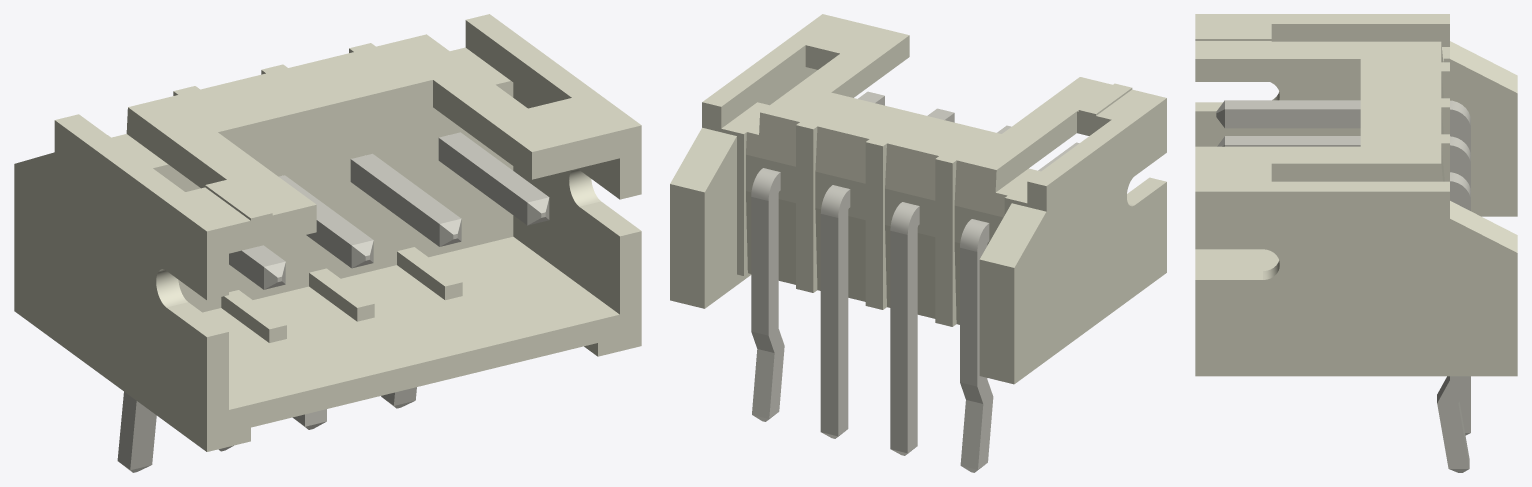
The model's file is kc-jst_ph_s4b-ph-k_1x04_p2.00mm_horizontal.glb.
3 renders of one model, left to right at view 1: azimuth 30°, elevation 25°; view 2: azimuth 150°, elevation 25°; view 3: azimuth 270°, elevation 25°, orthographic. The views are drawn at different scales.
Visible parts, largest first — view 1: 0.75_0.75_0.5833333333333334_0, 0.6666666666666666_0.6666666666666666_0.5833333333333334_0.8; view 2: 0.75_0.75_0.5833333333333334_0, 0.6666666666666666_0.6666666666666666_0.5833333333333334_0.8; view 3: 0.75_0.75_0.5833333333333334_0, 0.6666666666666666_0.6666666666666666_0.5833333333333334_0.8.
Part boxes in pixels (box(x1,y1,x2,y2)): 0.75_0.75_0.5833333333333334_0: box(14, 14, 641, 451); 0.6666666666666666_0.6666666666666666_0.5833333333333334_0.8: box(117, 132, 549, 472); 0.75_0.75_0.5833333333333334_0: box(670, 14, 1166, 384); 0.6666666666666666_0.6666666666666666_0.5833333333333334_0.8: box(751, 91, 1079, 472); 0.75_0.75_0.5833333333333334_0: box(1195, 14, 1517, 376); 0.6666666666666666_0.6666666666666666_0.5833333333333334_0.8: box(1216, 100, 1470, 472).
Bounding box in the file's own units: 0.99 × 0.825 × 0.76.
